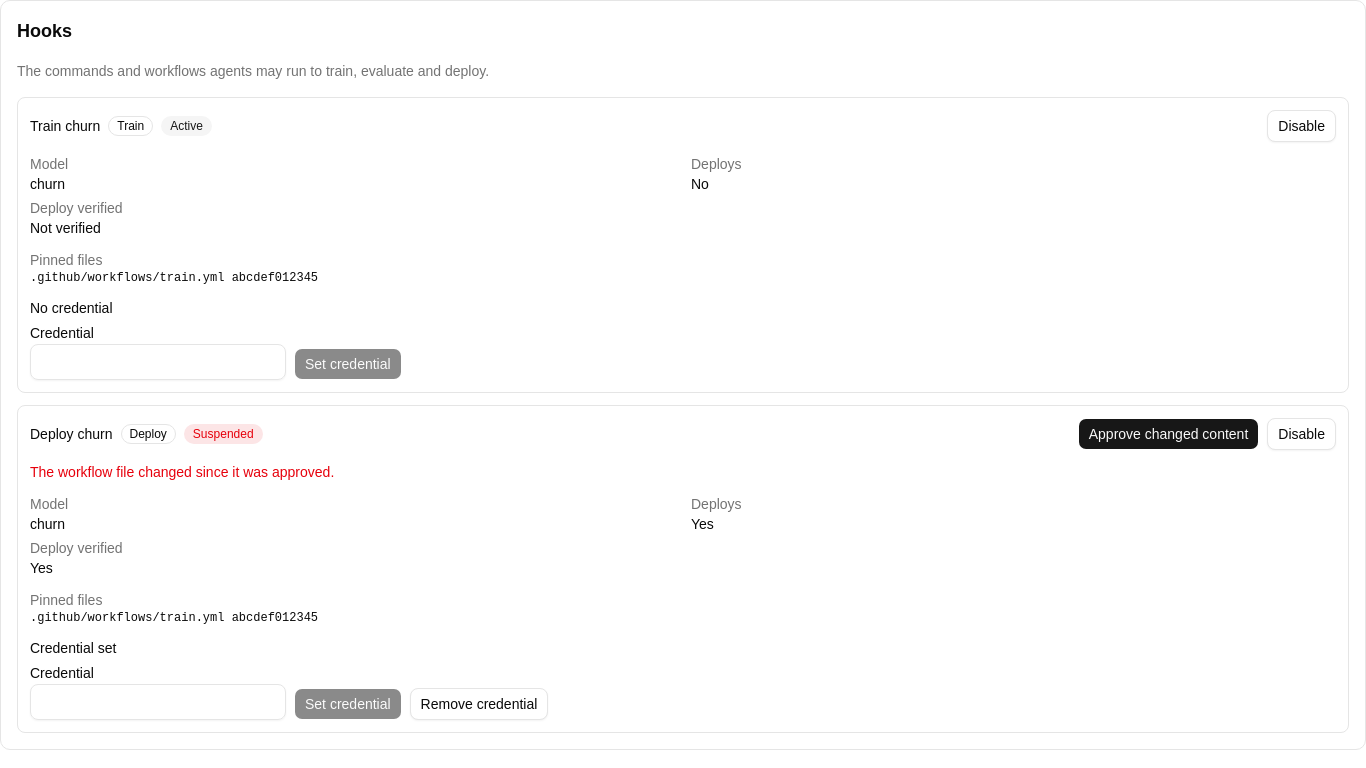
Scenario: HooksSection › sets the credential write-only: password field, cleared after saving, in no response or cache
This screenshot has width=1366, height=768.
Expected: the button "Set credential" below "No credential" is disabled, [294, 348, 402, 380]
Step 1. Type "tok-super-secret-9f2" into the password field labelled "Credential" below "No credential" → (158, 362), box [30, 344, 286, 380]
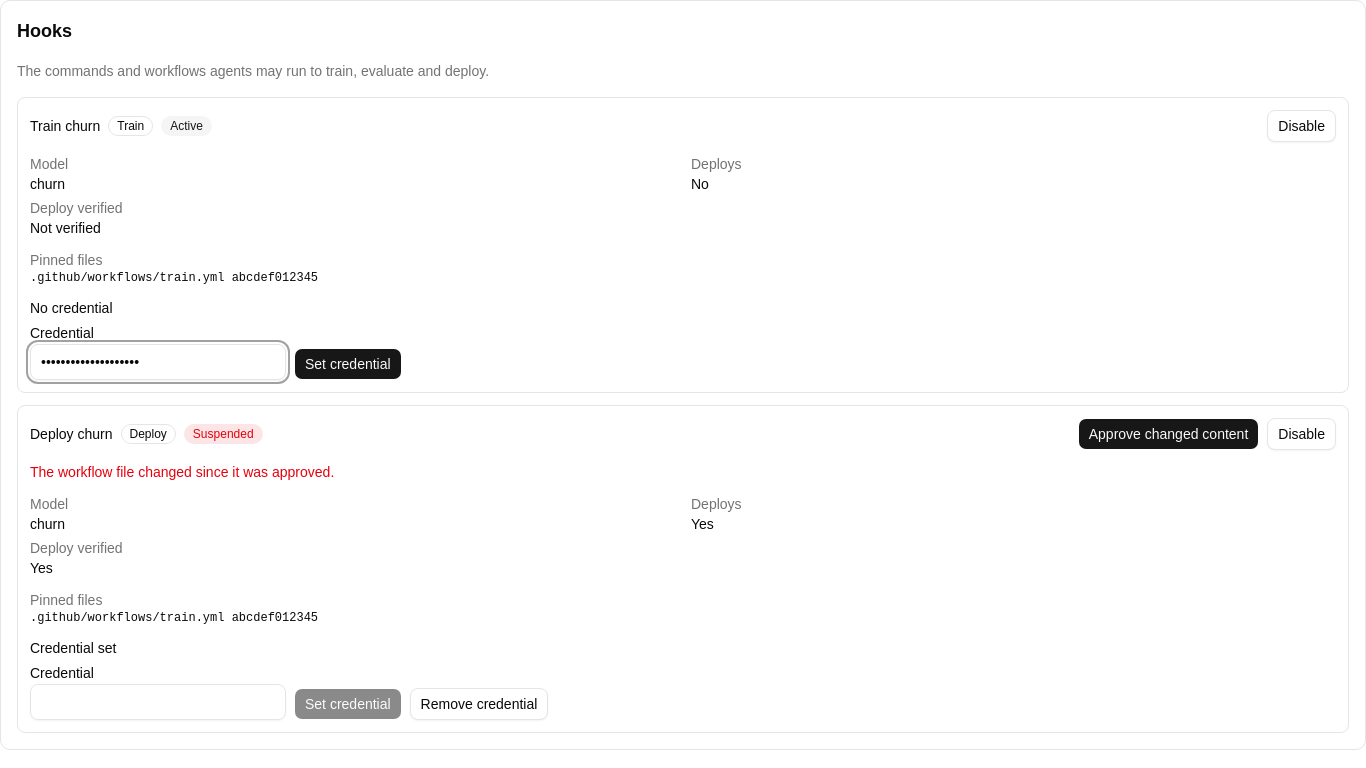
Step 2. Click the button "Set credential" below "No credential" → (348, 364), box [294, 348, 402, 380]
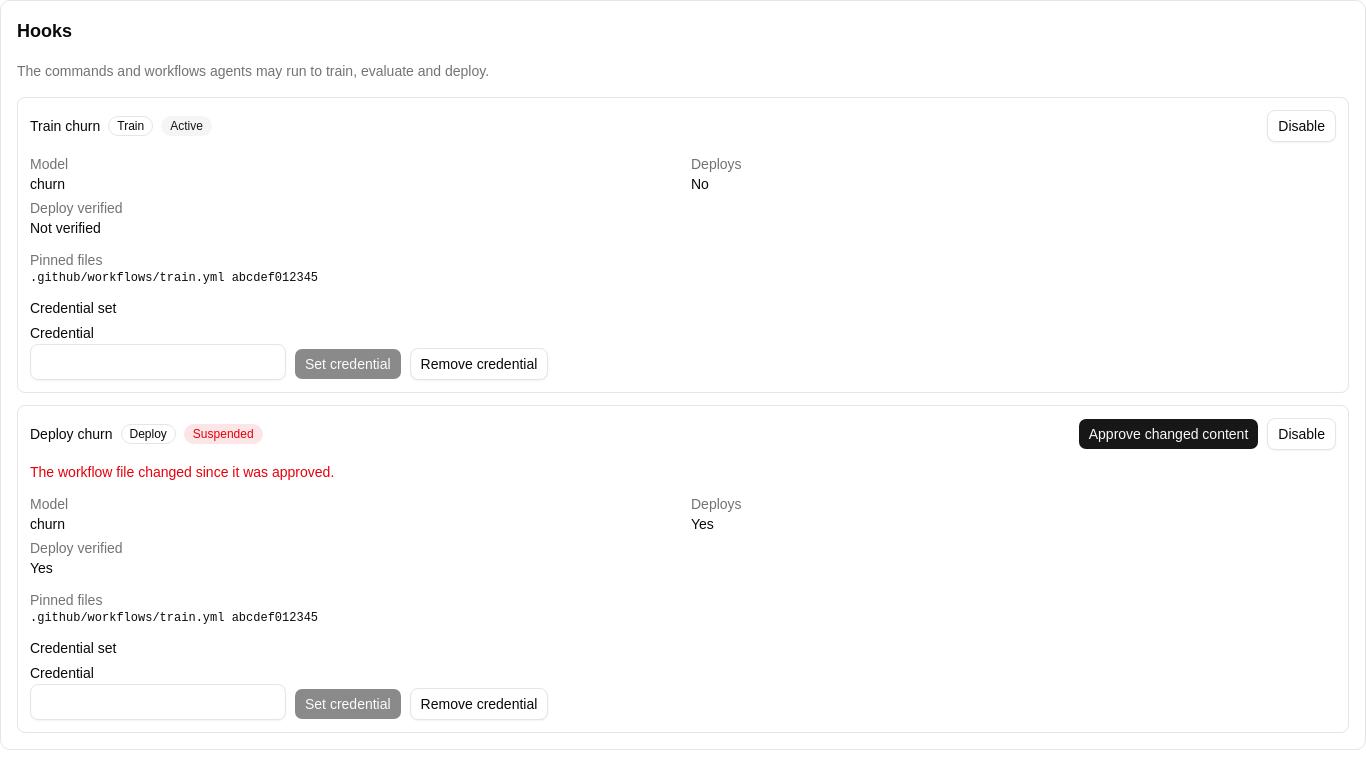
Now the text with test id "hook-credential" below "Train churn" reads "Credential set", box [30, 300, 116, 316]
Now the password field labelled "Credential" below "Train churn" is empty, box [30, 344, 286, 380]
